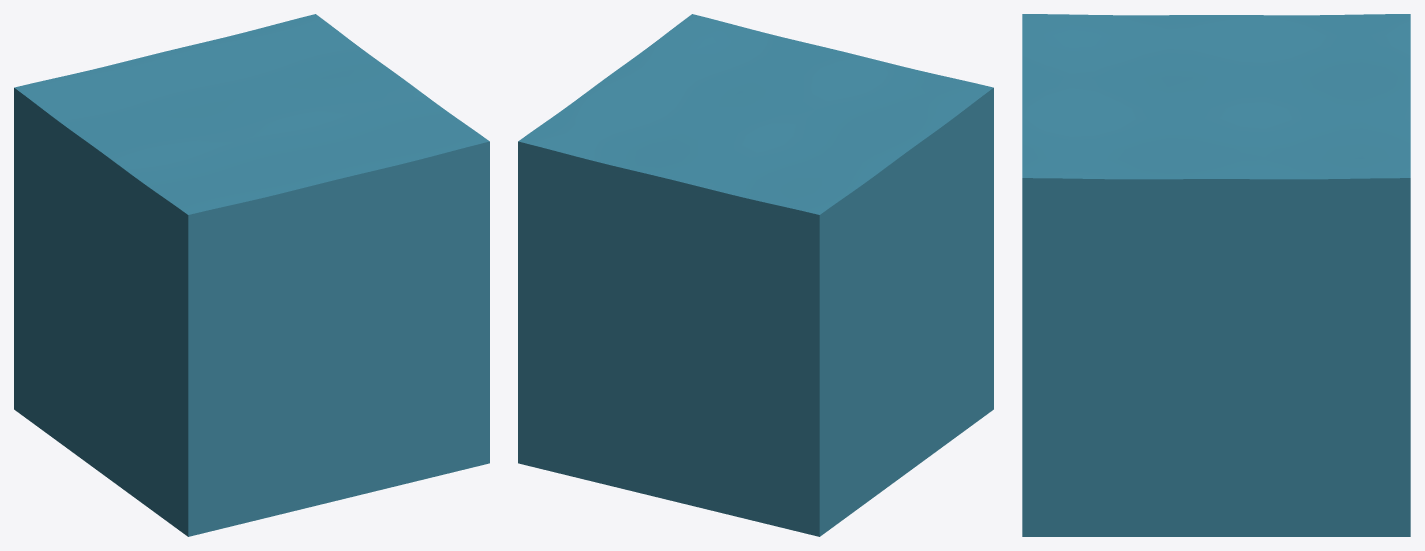
File: slpool_wave45.glb
The picture shows the model from 3 angles, left to right: view 1: azimuth 30°, elevation 25°; view 2: azimuth 150°, elevation 25°; view 3: azimuth 270°, elevation 25°; orthographic projection. The views are drawn at different scales.
Visible parts, largest first — view 1: poolWater; view 2: poolWater; view 3: poolWater.
Boxes of the visible parts, box(x1,y1,x2,y2) form: poolWater: box(14, 14, 489, 536); poolWater: box(518, 14, 993, 536); poolWater: box(1022, 14, 1410, 536).
Size of the model in its own units: 2 by 2.04 by 2.
